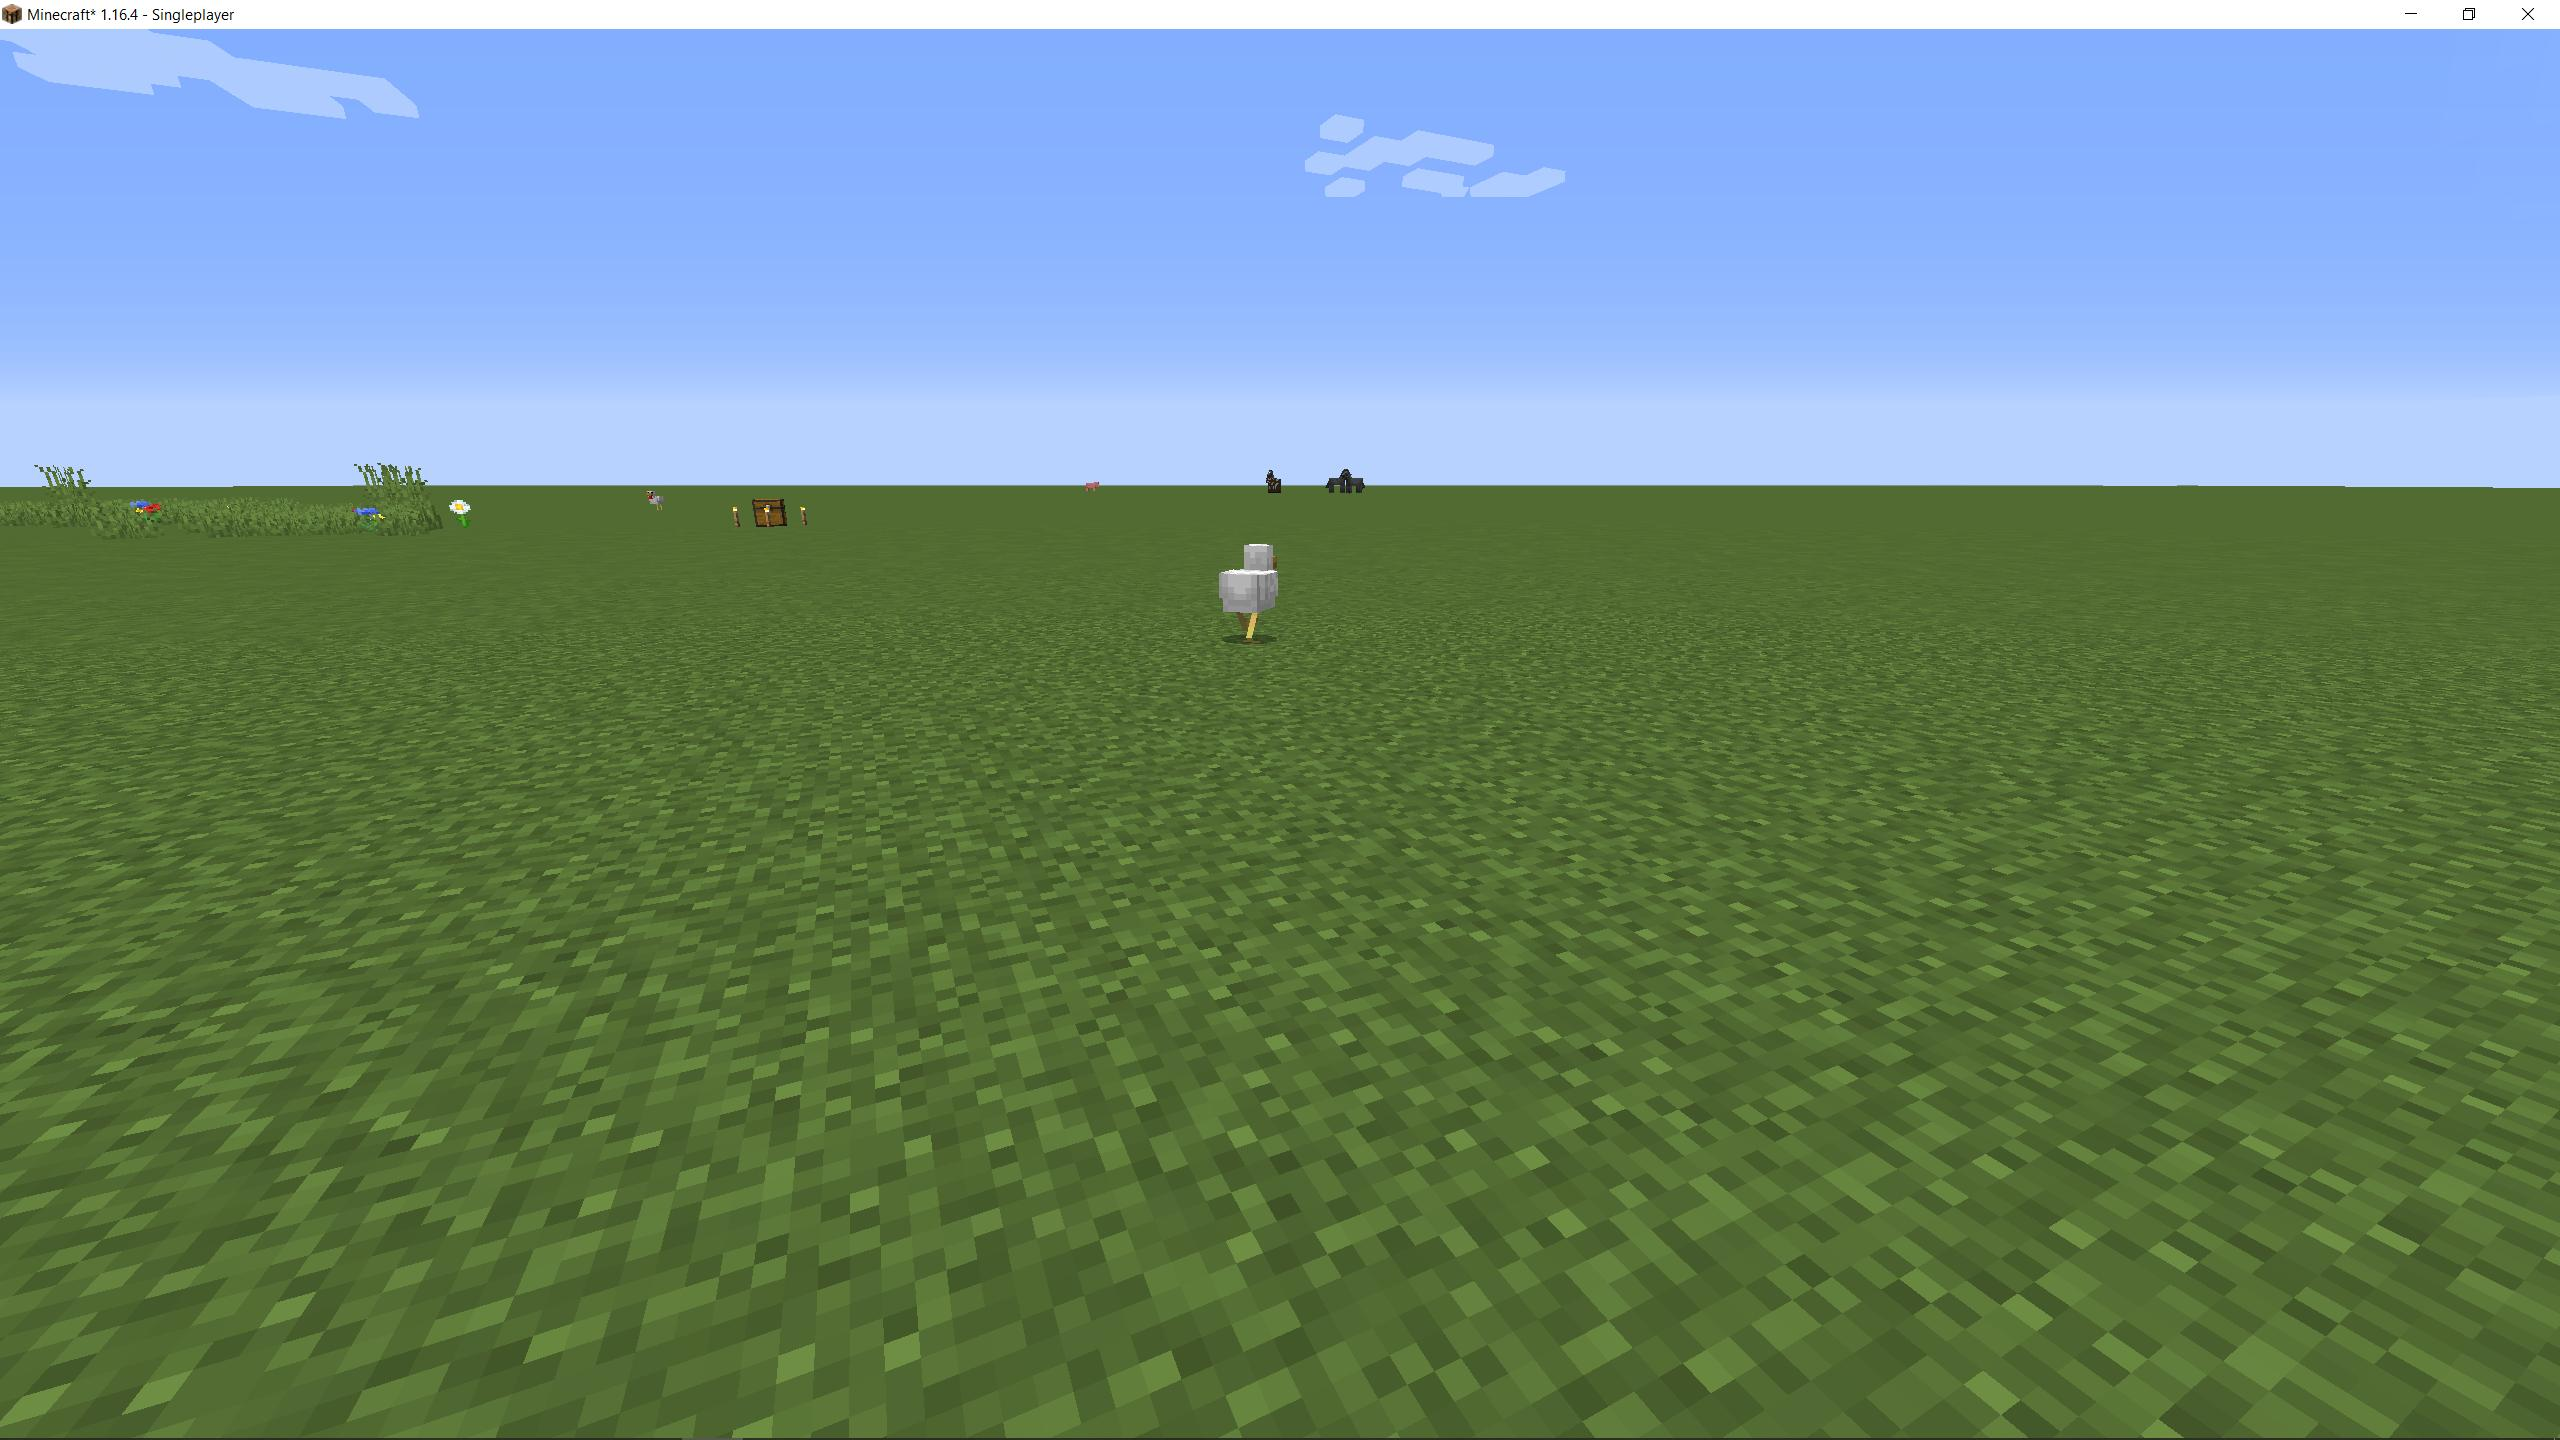chicken: (1211, 535, 1289, 651)
